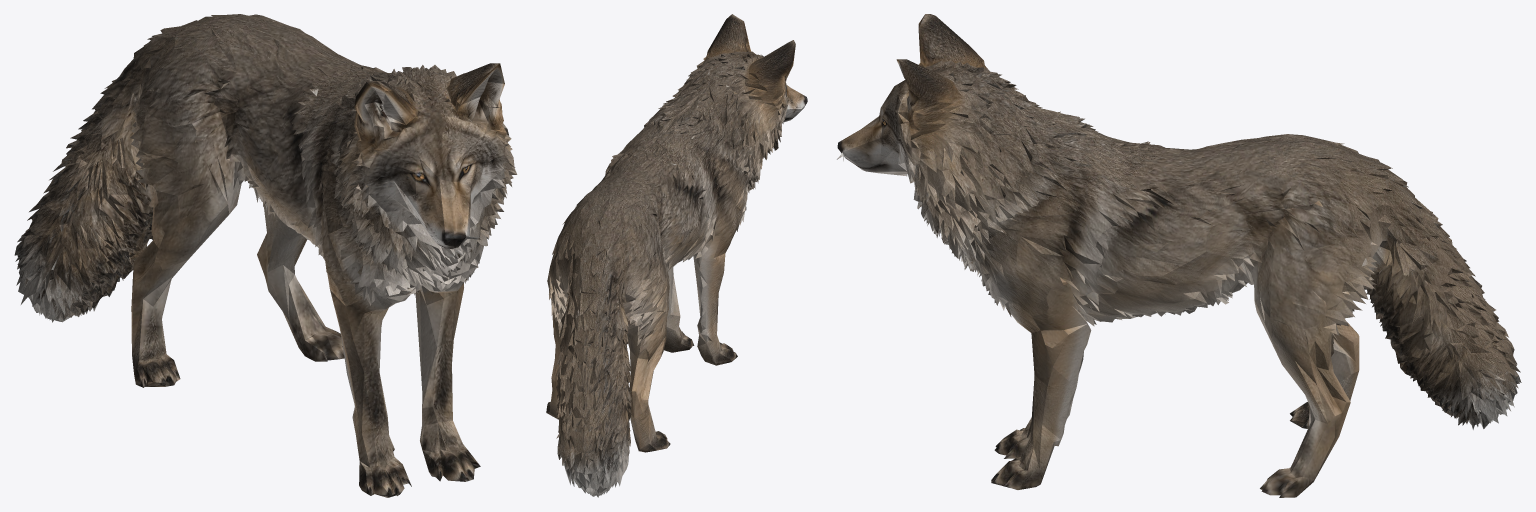
The model's file is wolf.glb.
3 renders of one model, left to right at view 1: azimuth 30°, elevation 25°; view 2: azimuth 150°, elevation 25°; view 3: azimuth 270°, elevation 25°, orthographic. The views are drawn at different scales.
Visible parts, largest first — view 1: output_unwrapped; view 2: output_unwrapped; view 3: output_unwrapped.
Boxes of the visible parts, bbox=[...] form: output_unwrapped: bbox=[14, 14, 517, 497]; output_unwrapped: bbox=[546, 14, 807, 497]; output_unwrapped: bbox=[837, 14, 1521, 497].
Bounding box in the file's own units: 0.4309 × 0.85 × 1.26.
1 material, 1 textured.
